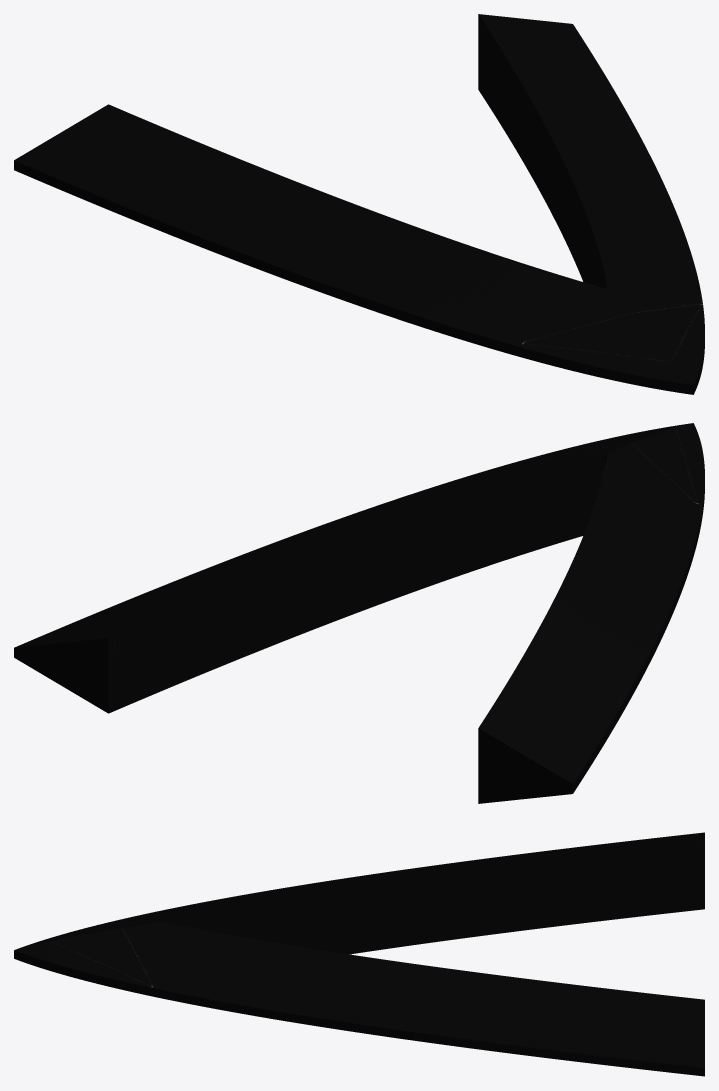
Rendered from GateOpened.glb.
The picture shows the model from 3 angles, top to bottom: view 1: azimuth 30°, elevation 25°; view 2: azimuth 150°, elevation 25°; view 3: azimuth 270°, elevation 25°; orthographic projection. The views are drawn at different scales.
Parts seen in each view (by area): view 1: node_id3; view 2: node_id3; view 3: node_id3.
Boxes of the visible parts, bbox=[...] form: node_id3: bbox=[14, 14, 704, 394]; node_id3: bbox=[14, 423, 704, 803]; node_id3: bbox=[14, 832, 704, 1076].
Size of the model in its own units: 0.512 by 0.0664 by 0.6348.
Materials: 1 (1 with a texture image).
